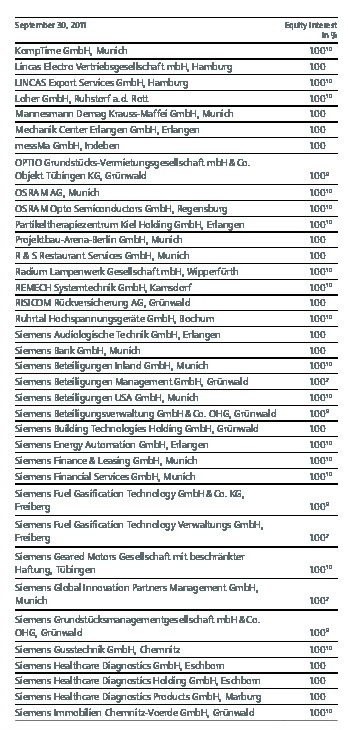table: (0, 0, 348, 730)
